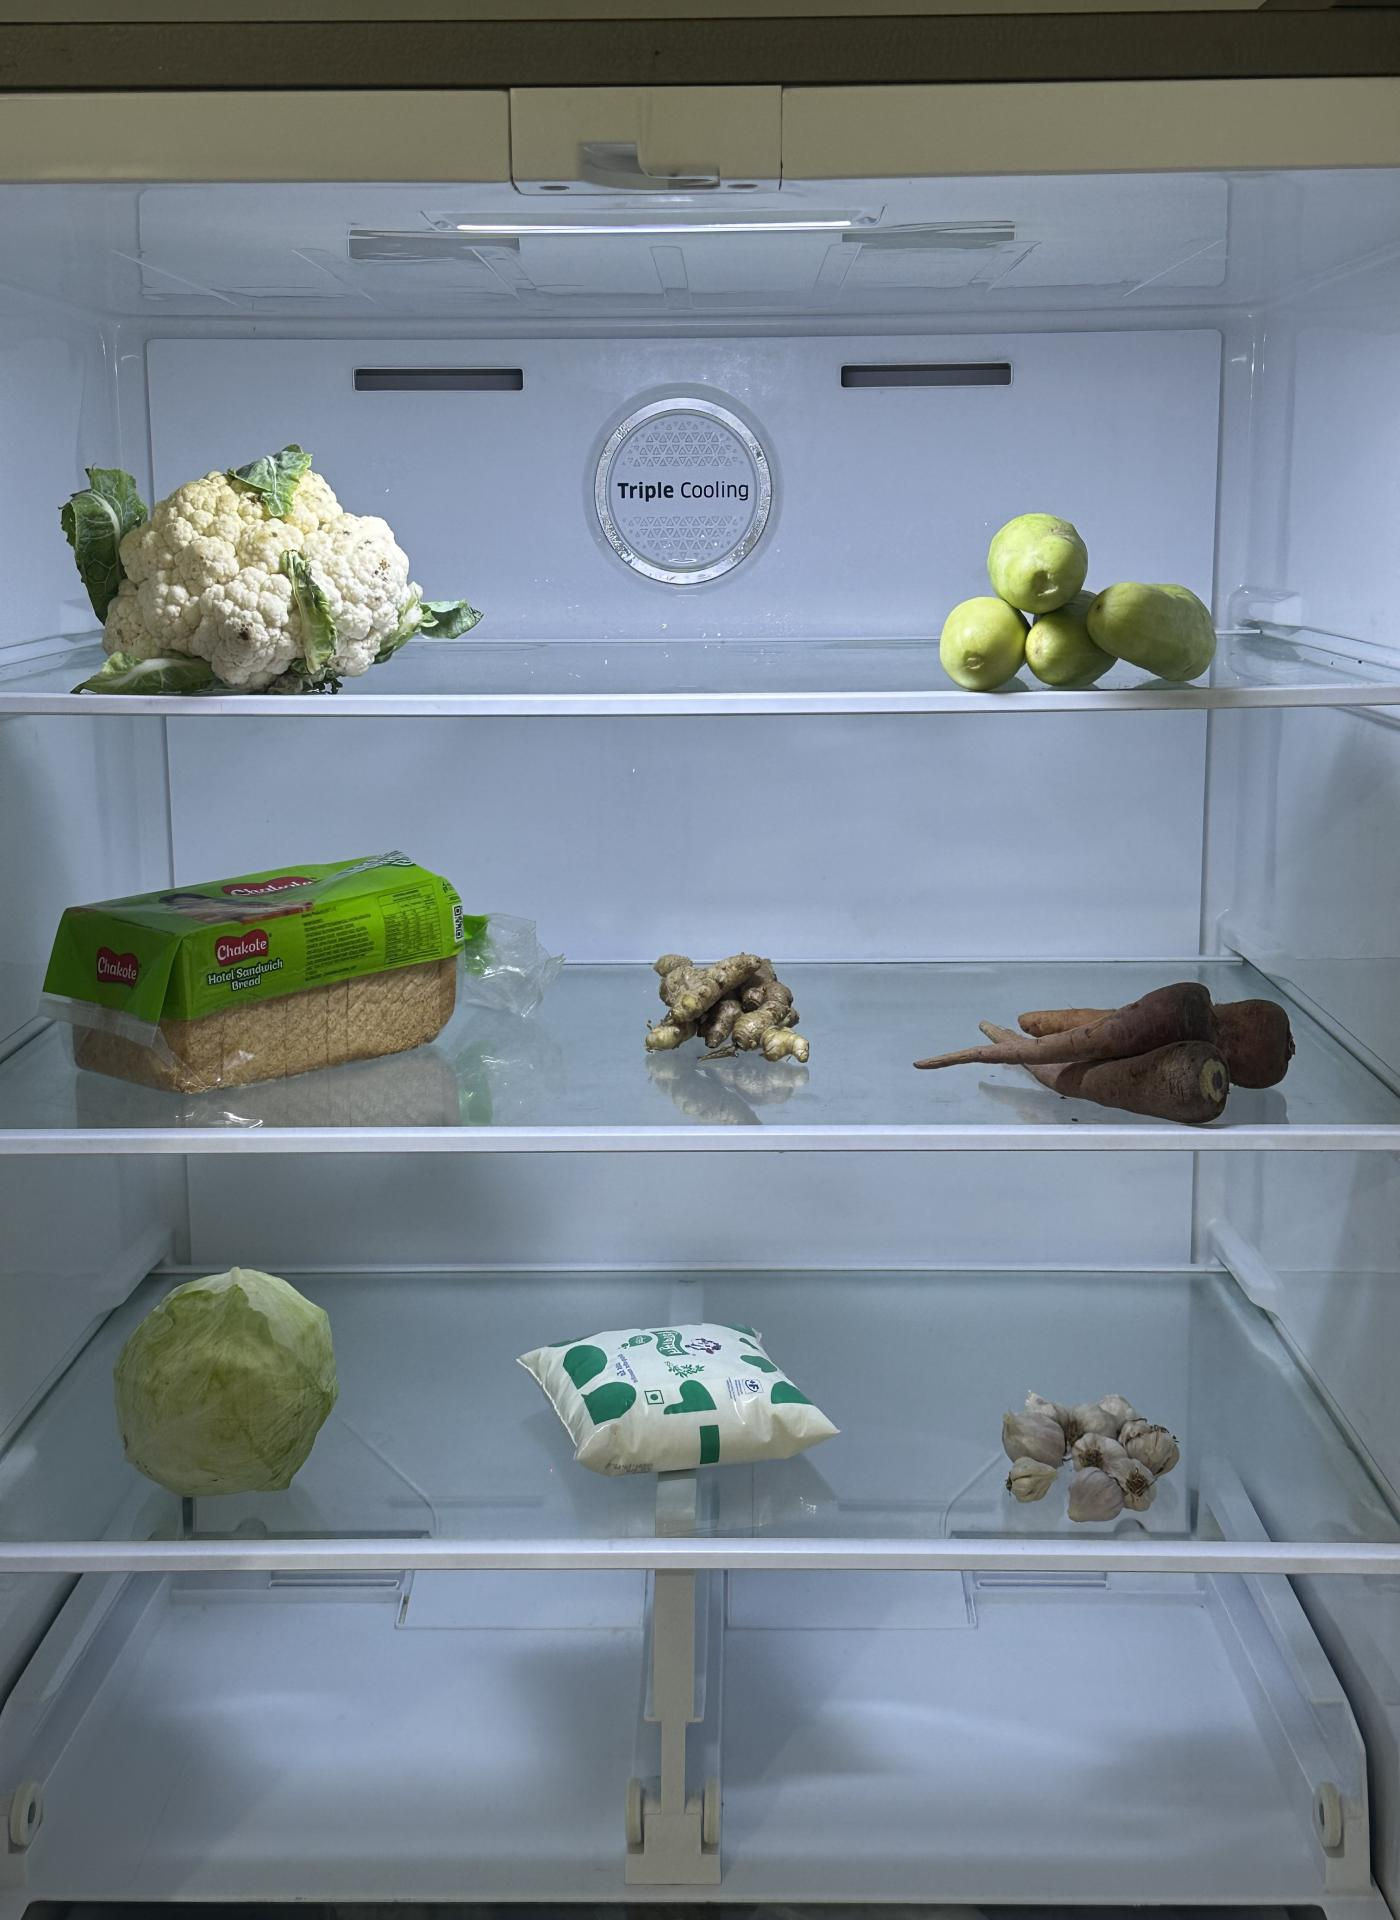bread: (61, 853, 488, 1096)
cabbage: (116, 1258, 343, 1504)
carrots: (950, 959, 1321, 1125)
cauliflower: (66, 429, 428, 684)
cucumber: (932, 501, 1229, 699)
garlic: (974, 1382, 1194, 1522)
ginger: (640, 939, 829, 1081)
milk: (501, 1319, 850, 1488)
